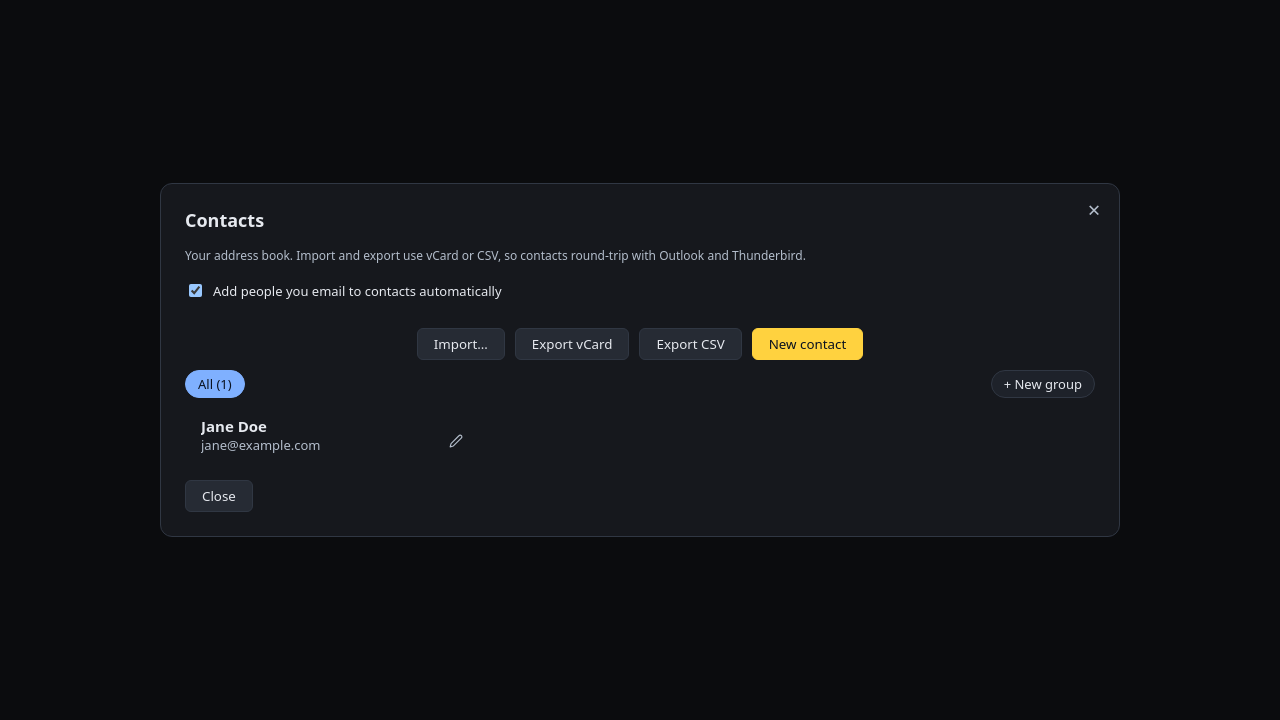
Scenario: ContactsModal: layout and delete placement › opens the editor from the pencil button on a card
What coordinates should you click on to do the following:
click the button named "Edit Jane Doe"
I would click on:
 (456, 441)
Its box is 443,428 -> 469,454.
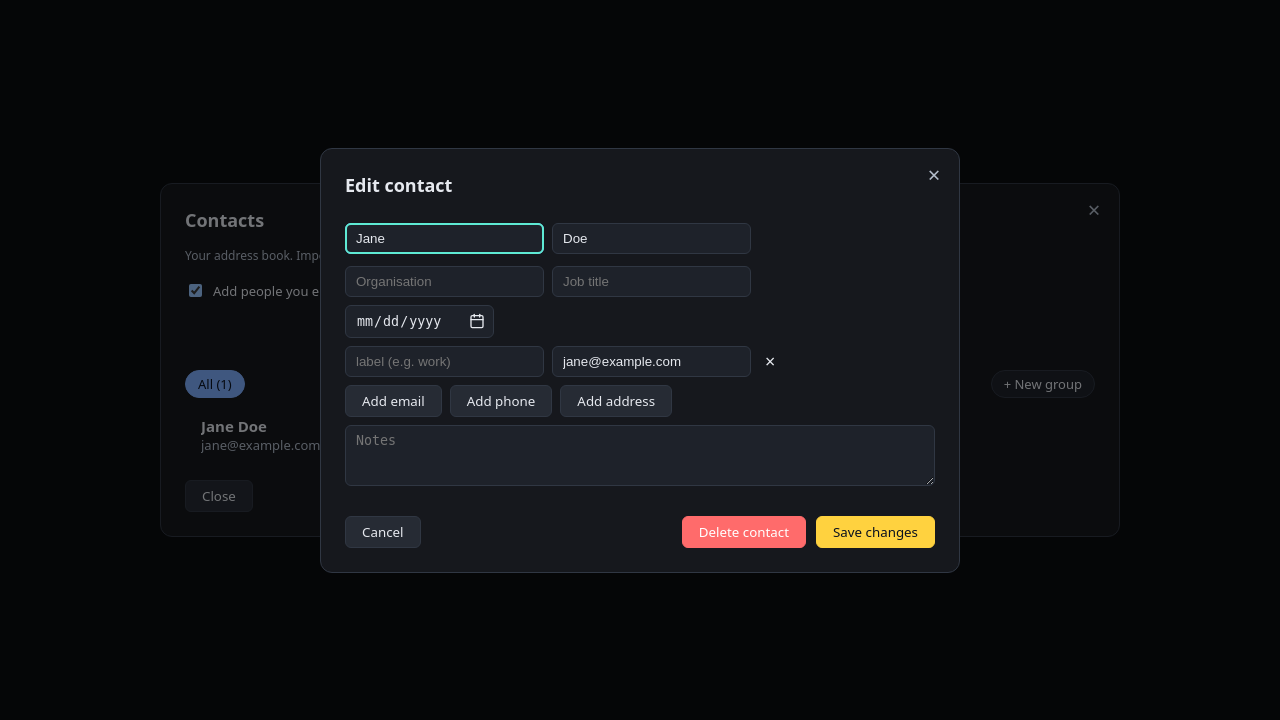
Result: the button "Save changes" is shown at 816,516 -> 935,548
Result: the 1st field showing "Jane" is shown at 345,222 -> 544,254
